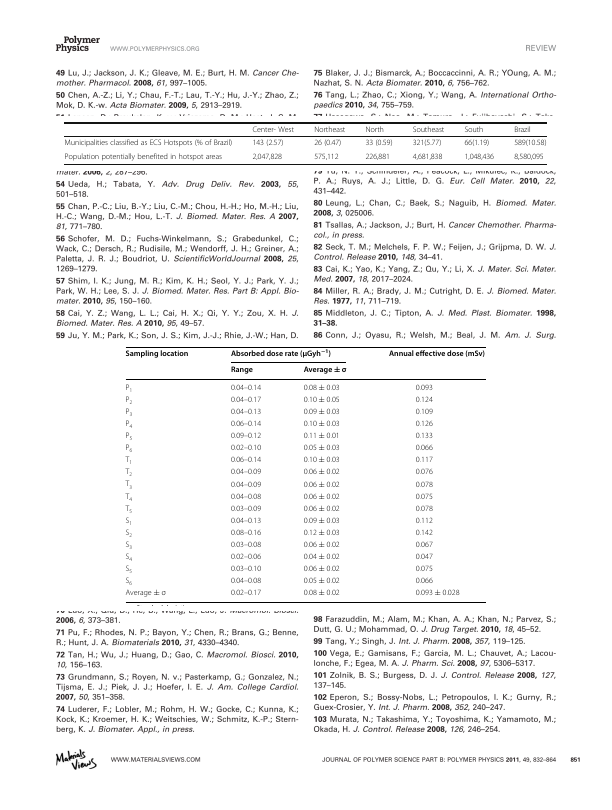borderless: (124, 345, 486, 602), (64, 121, 547, 164)
cell: (64, 138, 233, 148), (64, 152, 223, 162), (230, 348, 332, 359), (388, 349, 486, 359), (125, 349, 189, 359), (303, 365, 347, 375), (415, 589, 461, 598), (251, 125, 295, 134), (124, 589, 167, 598), (303, 383, 341, 393), (303, 395, 341, 405), (303, 504, 341, 514), (303, 516, 341, 526), (303, 408, 341, 417), (303, 420, 341, 429), (303, 432, 341, 441), (303, 444, 341, 453), (303, 456, 341, 465), (303, 468, 341, 477), (303, 480, 341, 489), (303, 492, 341, 501), (303, 529, 341, 538), (303, 541, 341, 550), (303, 553, 341, 562), (303, 565, 341, 574), (303, 577, 341, 586), (303, 589, 341, 598), (513, 138, 547, 148), (251, 138, 284, 148), (251, 152, 283, 162), (463, 152, 495, 162), (513, 152, 545, 162), (230, 383, 262, 393), (230, 395, 262, 405), (230, 504, 262, 514), (230, 516, 262, 526), (412, 152, 443, 162), (412, 138, 442, 148), (313, 125, 346, 134), (412, 125, 445, 134), (313, 138, 342, 148), (364, 138, 393, 148), (230, 408, 262, 417), (230, 420, 262, 429), (230, 432, 262, 441), (230, 444, 262, 453), (230, 456, 262, 465), (230, 468, 262, 477), (230, 480, 262, 489), (230, 492, 262, 501), (230, 529, 262, 538), (230, 541, 262, 550), (230, 553, 262, 562), (230, 565, 262, 574), (230, 577, 262, 586), (230, 589, 262, 598), (463, 138, 490, 148), (364, 152, 391, 162), (313, 152, 339, 162), (230, 365, 254, 375), (415, 383, 434, 393), (415, 395, 434, 405), (415, 504, 434, 514), (415, 516, 434, 526), (364, 125, 385, 134), (463, 125, 484, 134), (513, 125, 532, 134), (415, 408, 434, 417), (415, 420, 434, 429), (415, 432, 434, 441), (415, 444, 434, 453), (415, 456, 434, 465), (415, 468, 434, 477), (415, 480, 434, 489), (415, 492, 434, 501), (415, 529, 434, 538), (415, 541, 434, 550), (415, 553, 434, 562), (415, 565, 434, 574), (415, 577, 434, 586), (124, 456, 133, 467), (124, 468, 133, 479), (124, 480, 133, 491), (124, 492, 133, 503), (124, 504, 133, 515), (124, 516, 133, 527), (124, 565, 133, 576), (124, 577, 133, 588), (124, 529, 133, 539), (124, 541, 133, 551), (124, 553, 133, 563), (125, 383, 133, 394), (125, 395, 133, 406), (125, 444, 133, 455), (125, 408, 133, 418), (125, 420, 133, 430), (125, 432, 133, 442)
